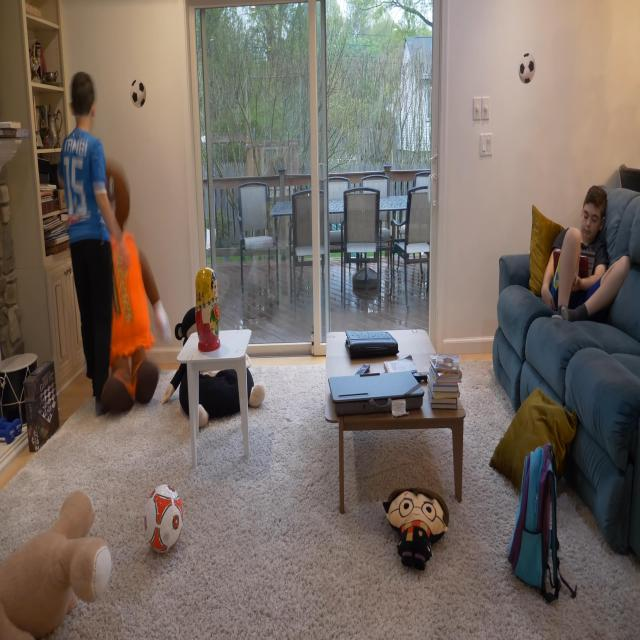Soccer Ball: (143, 483, 183, 558)
